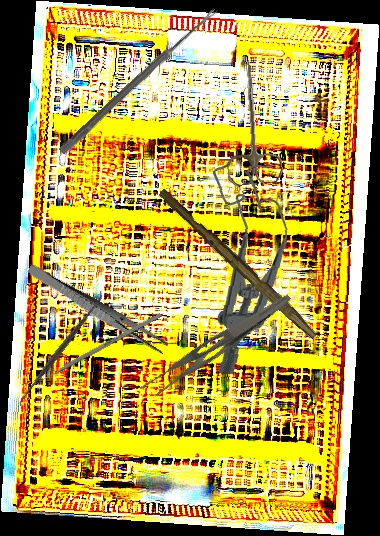Dressing Forceps: (137, 278, 293, 408), (24, 262, 170, 356)
Iris Scissors: (218, 58, 284, 187)
Pusher: (29, 312, 162, 389)
Scalpel Handle: (155, 187, 322, 340)
Spatula Surgical: (11, 288, 111, 409)
Speculum: (202, 158, 292, 377)
Surgical Spoon: (58, 6, 219, 156)
